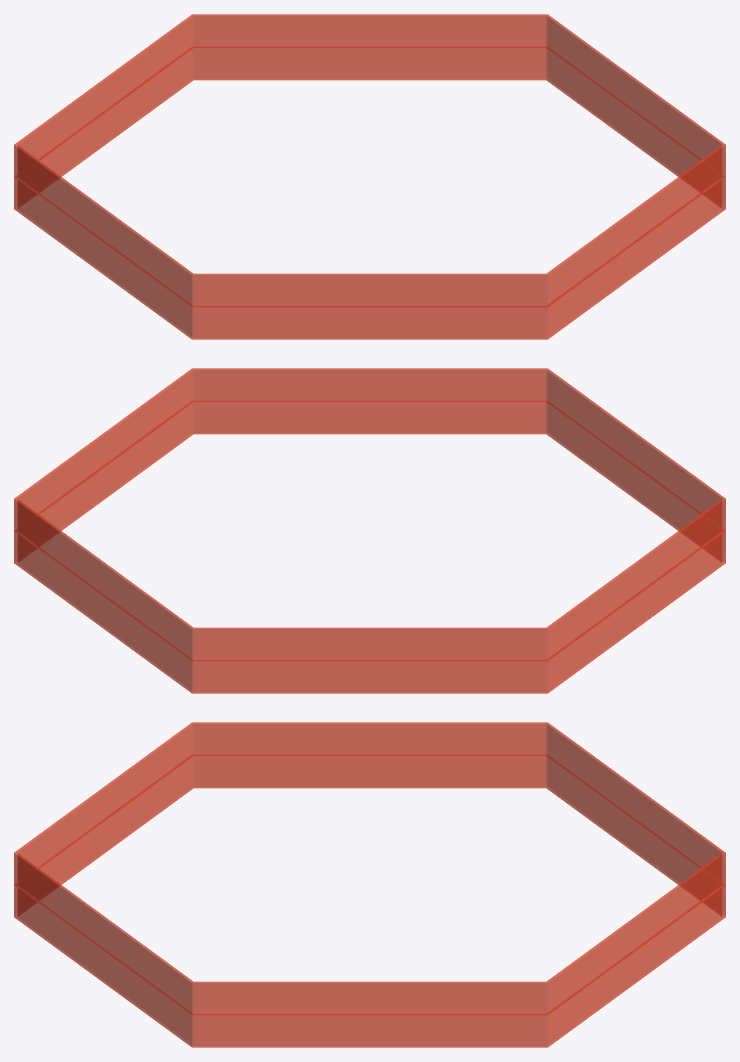
File: red_hex_solid.fbx
3 renders of one model, top to bottom at view 1: azimuth 30°, elevation 25°; view 2: azimuth 150°, elevation 25°; view 3: azimuth 270°, elevation 25°, orthographic.
Parts seen in each view (by area): view 1: Cylinder.001, Cylinder; view 2: Cylinder.001, Cylinder; view 3: Cylinder.001, Cylinder.
Boxes of the visible parts, x1,y1,x2,y2 form: Cylinder.001: (14, 14, 725, 307); Cylinder: (14, 47, 725, 339); Cylinder.001: (14, 368, 725, 661); Cylinder: (14, 401, 725, 693); Cylinder.001: (14, 722, 725, 1015); Cylinder: (14, 755, 725, 1047).
Bounding box in the file's own units: 173 × 20 × 200.
